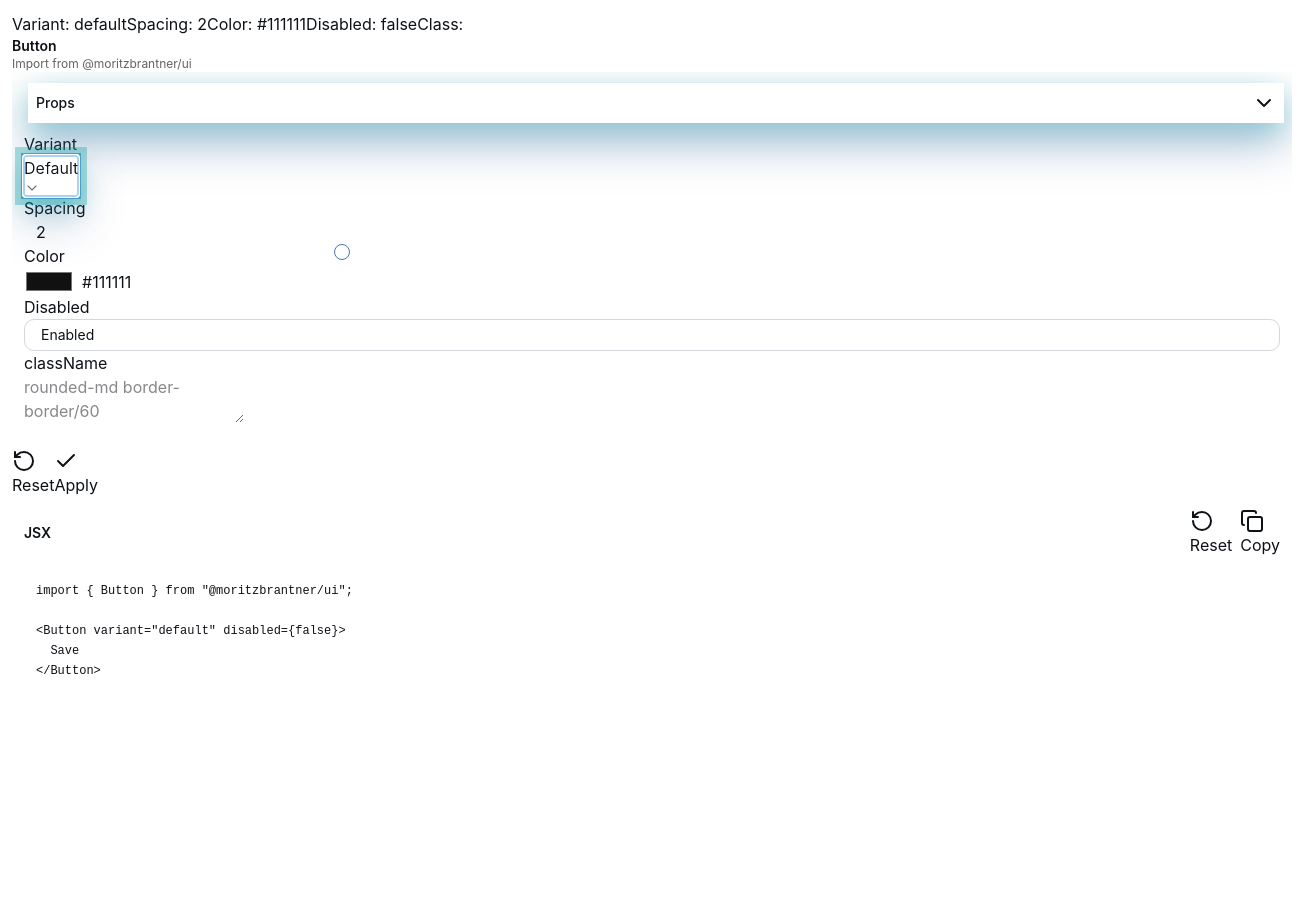
@moritzbrantner/ui component editor › selects components and edits select, slider, color, boolean, and className controls
Expected: the heading "Button" is shown, [12, 36, 56, 56]
Press Enter in the dropdown named "Variant", box [24, 156, 78, 196]
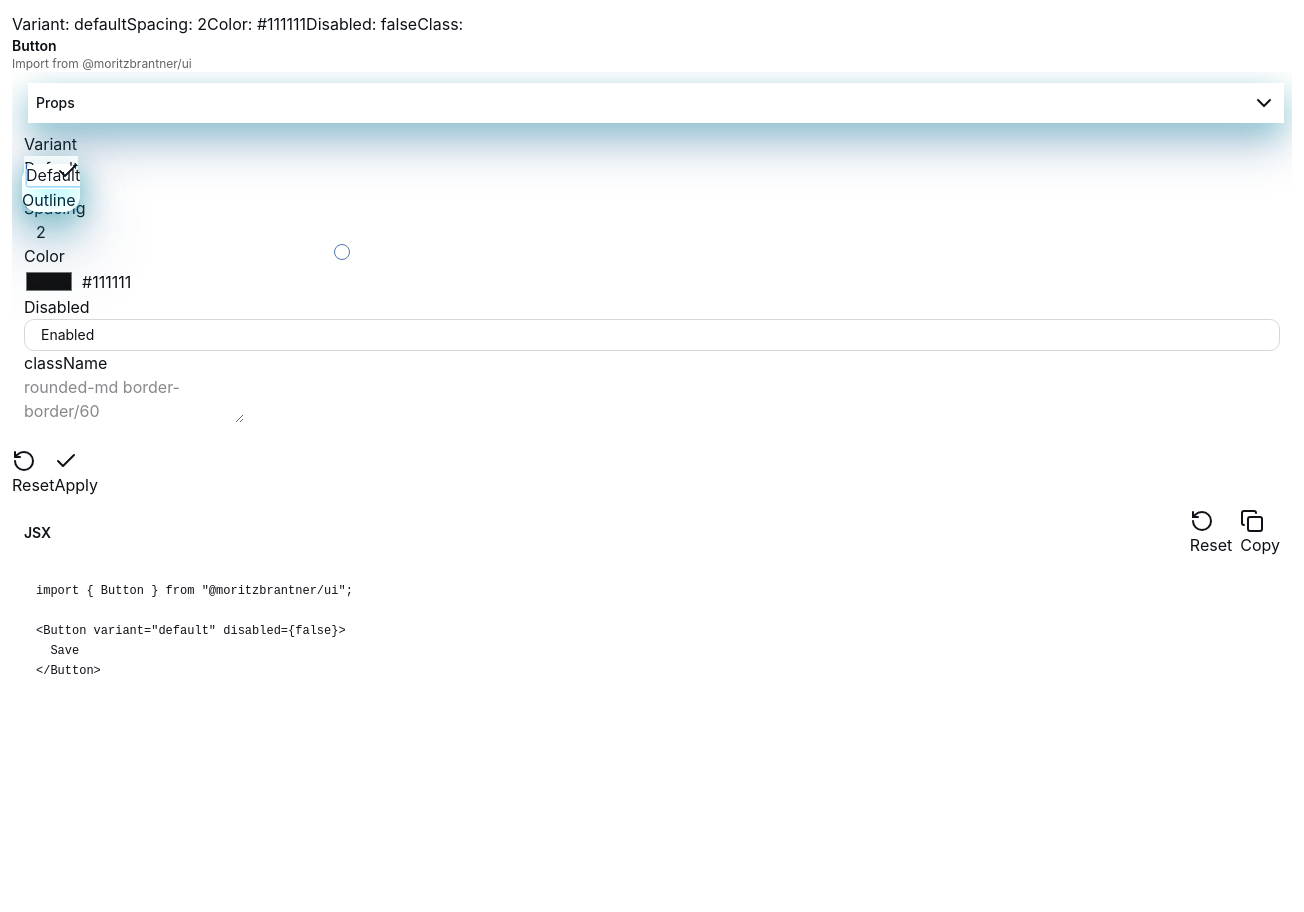
Click the option "Outline". click: (51, 200)
box: [22, 188, 80, 212]
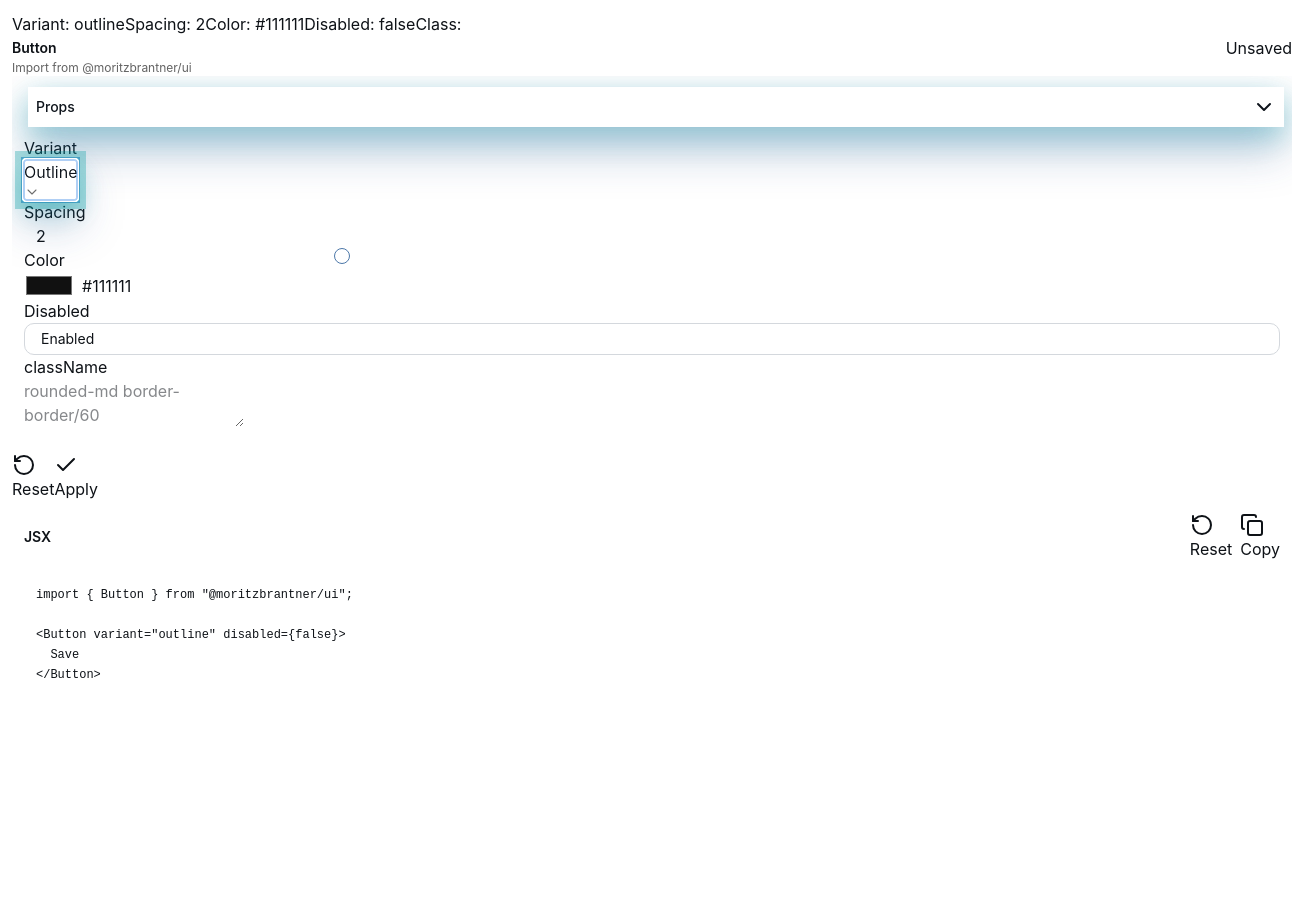
Now the text "Variant: outline" is shown, box [12, 14, 125, 34]
Replace the text in the number field named "Spacing value" with "6". click: (160, 236)
box: [36, 224, 284, 248]
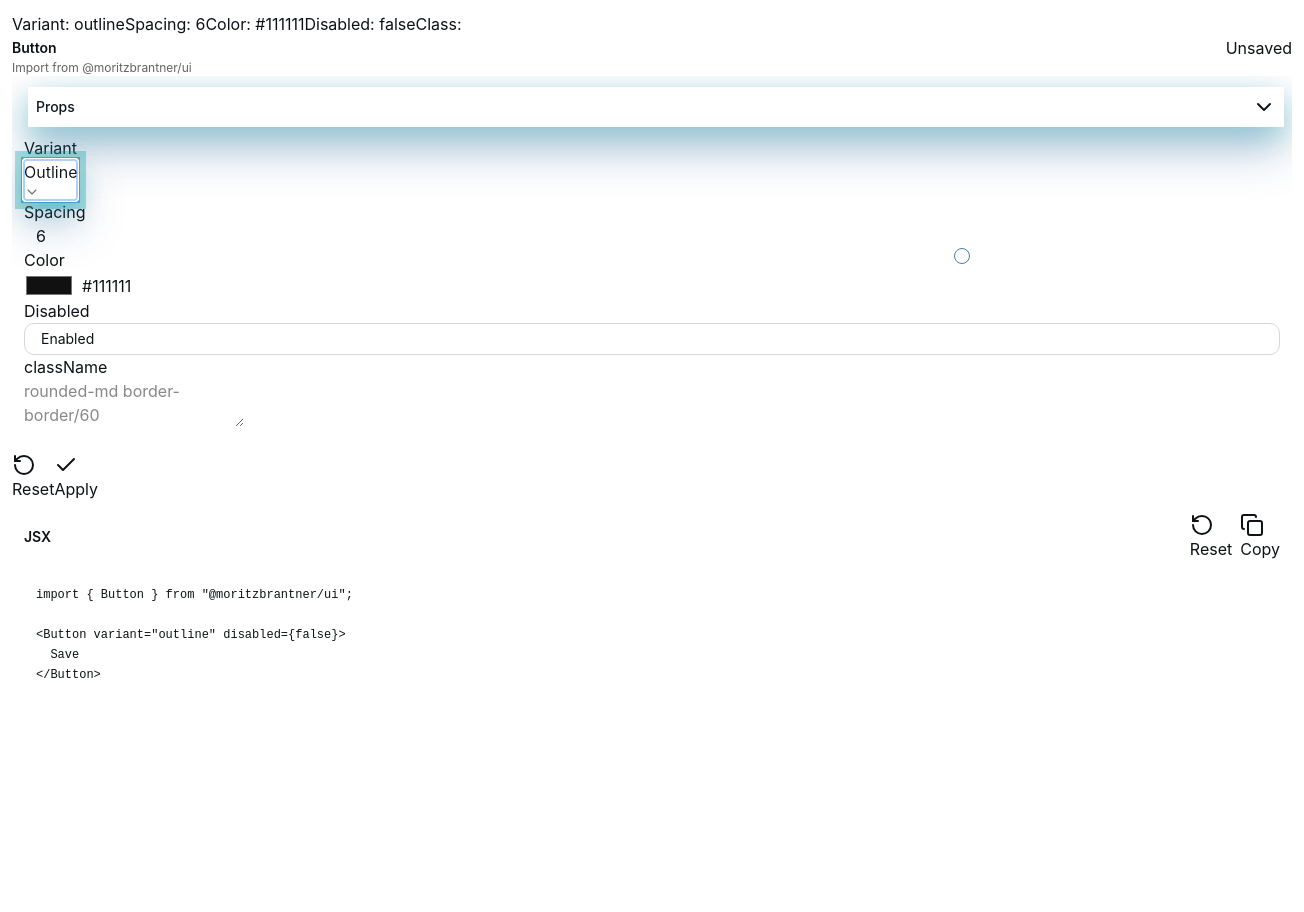
Now the text "Spacing: 6" is shown, box [125, 14, 205, 34]
Replace the text in the field named "Color color value" with "#ff0000". click: (206, 286)
box: [82, 274, 330, 298]
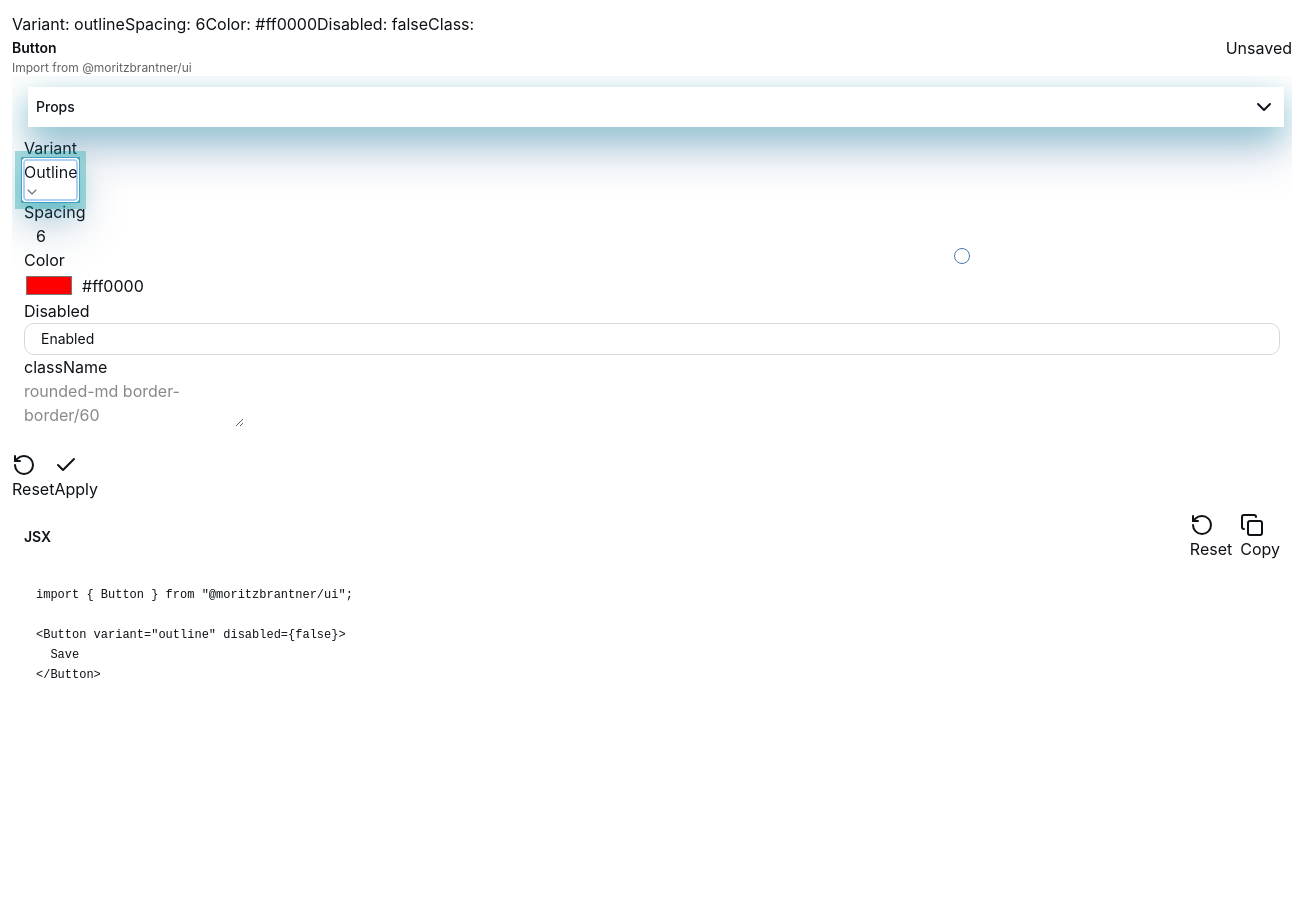
Now the text "Color: #ff0000" is shown, box [205, 14, 317, 34]
Click the button labelled "Disabled". click: (57, 311)
box: [24, 301, 90, 321]
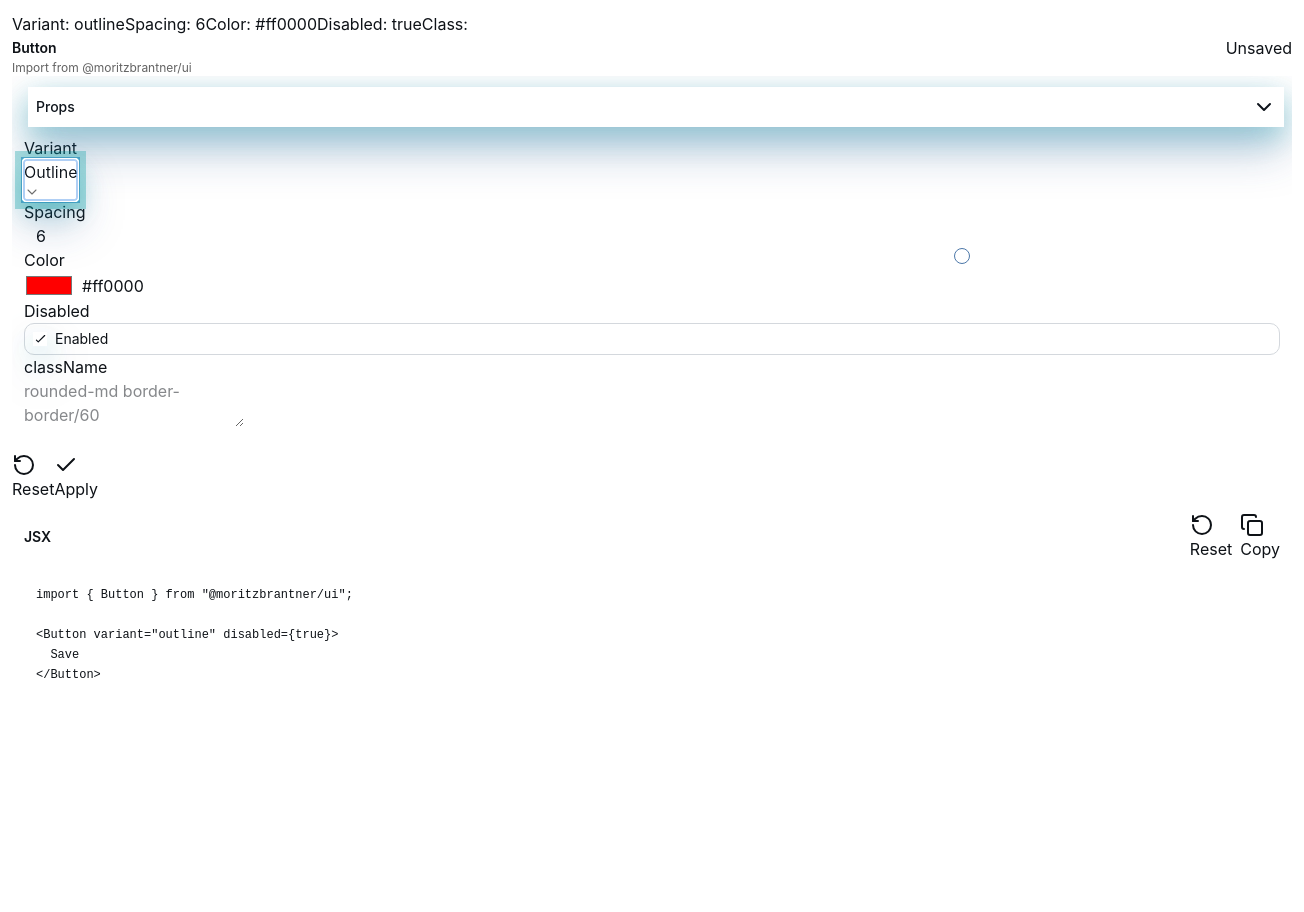
Now the text "Disabled: true" is shown, box [317, 14, 422, 34]
Type "rounded-md" into the text box labelled "className". click: (134, 403)
box: [24, 379, 244, 427]
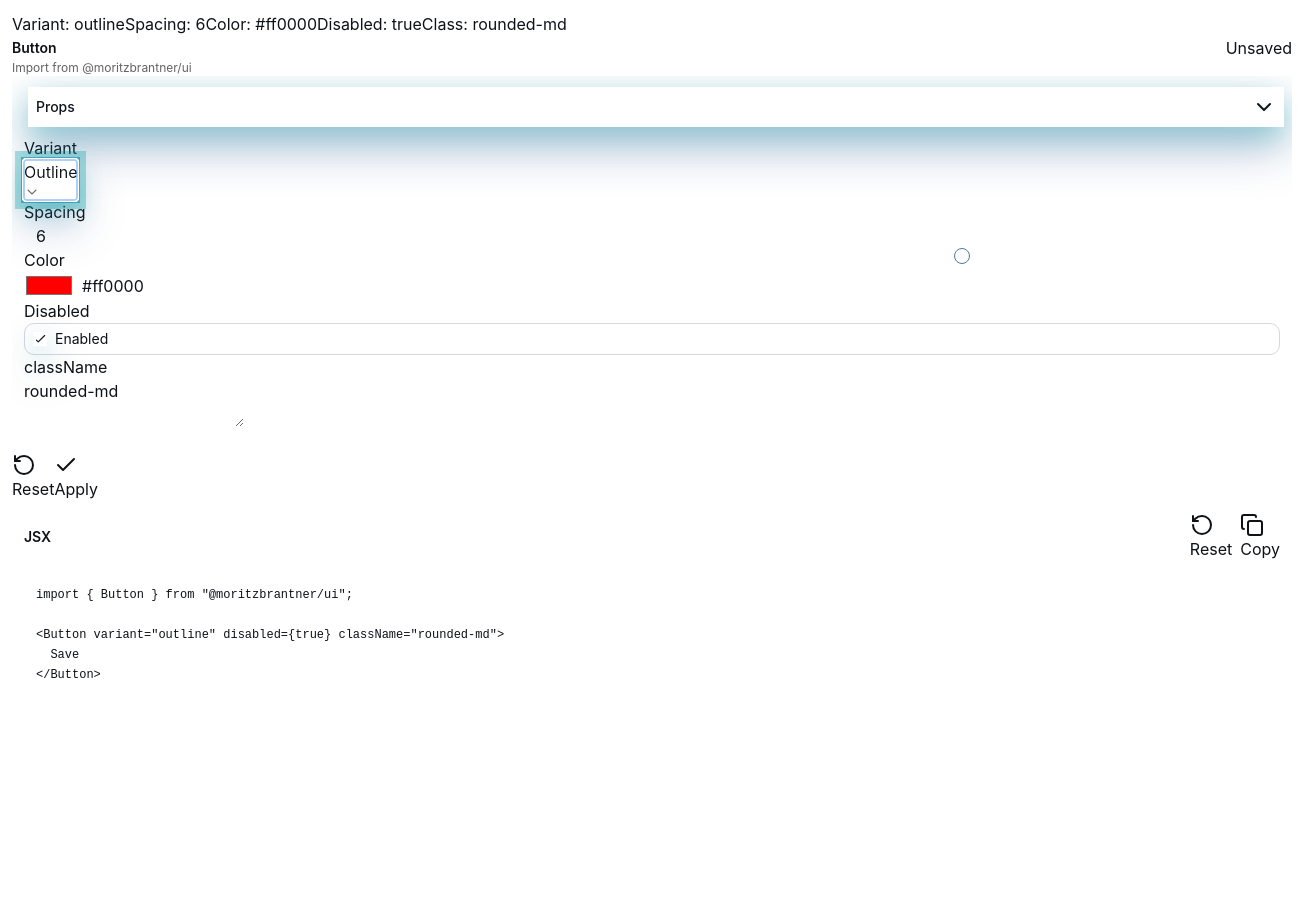
Now the text "Class: rounded-md" is shown, box [422, 14, 567, 34]
Now the text "className=\"rounded-md\"" is shown, box [36, 588, 504, 682]
